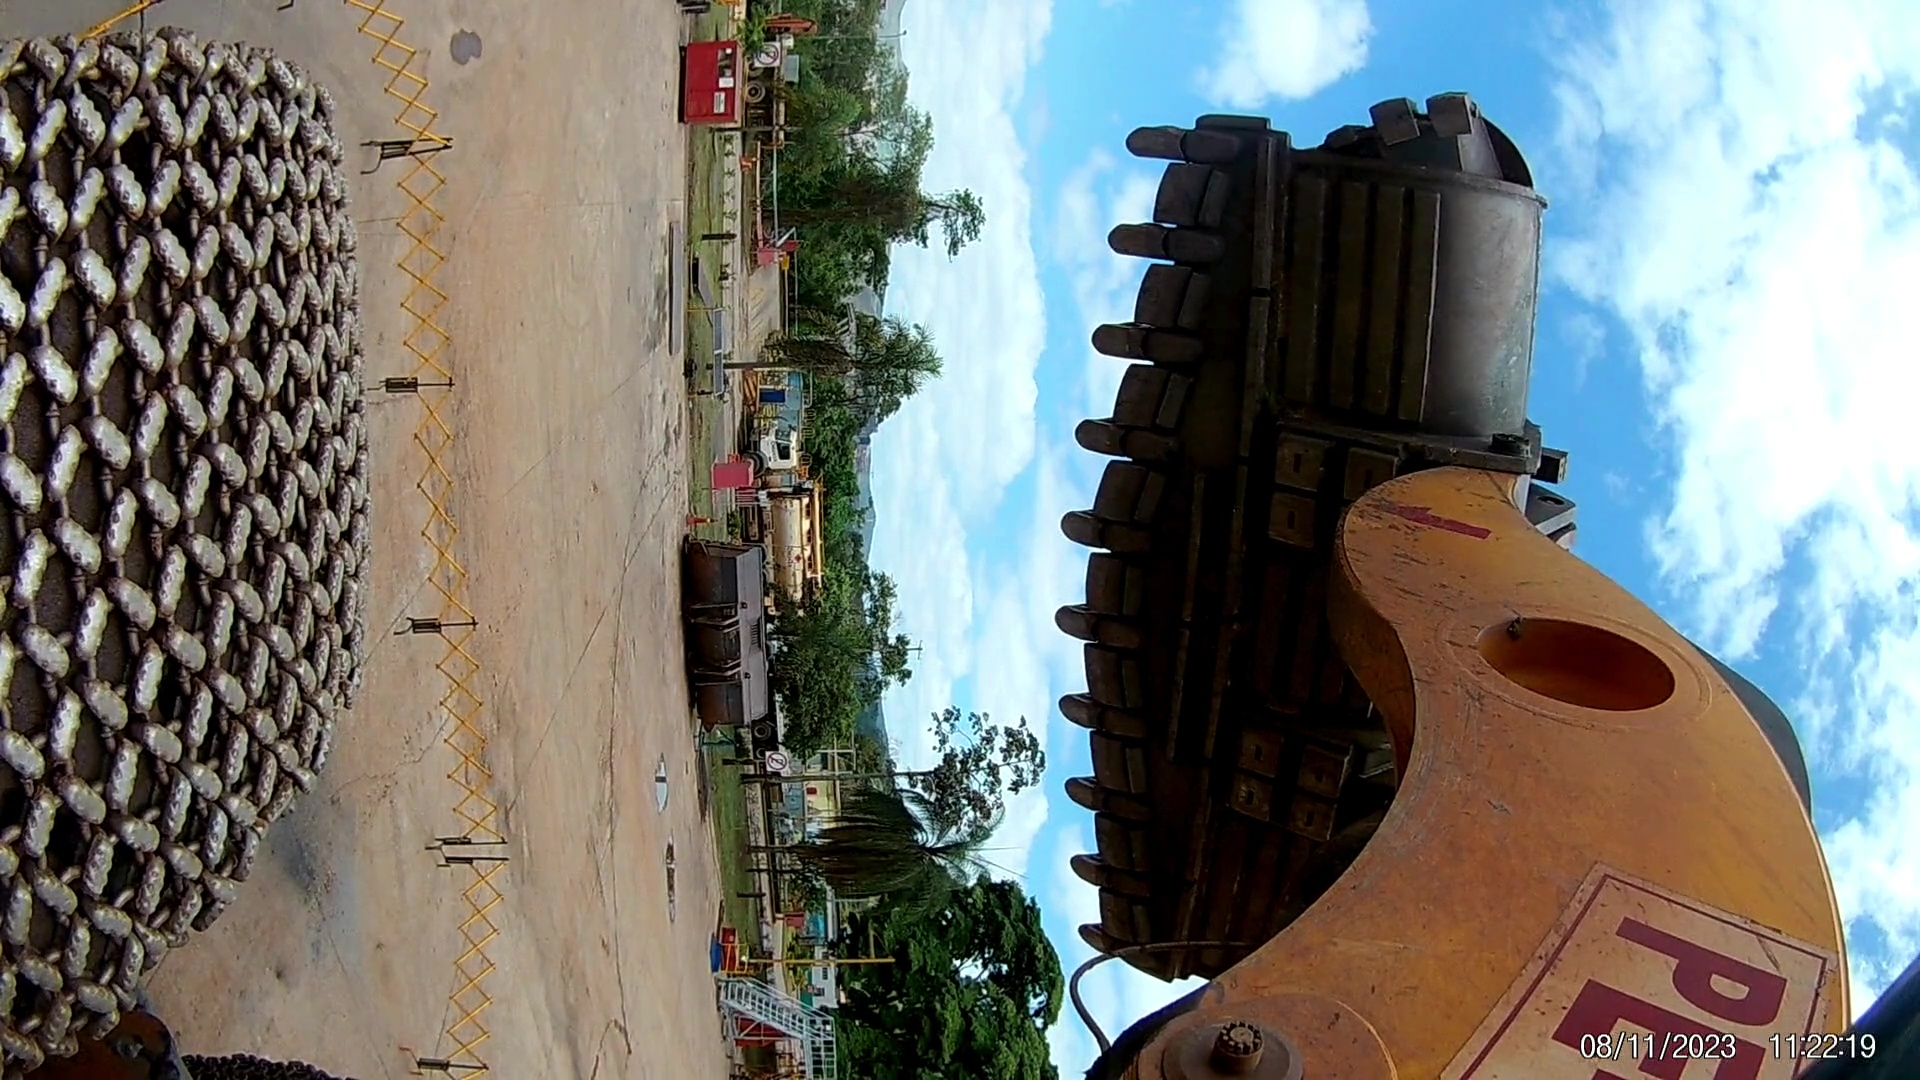FPS: (1042, 591, 1170, 673), (1051, 405, 1187, 476), (1075, 315, 1207, 384), (1073, 215, 1230, 272), (1101, 117, 1258, 165), (1051, 851, 1163, 910), (1058, 913, 1158, 965), (1036, 694, 1139, 741), (1036, 526, 1156, 564), (1062, 779, 1145, 829)
